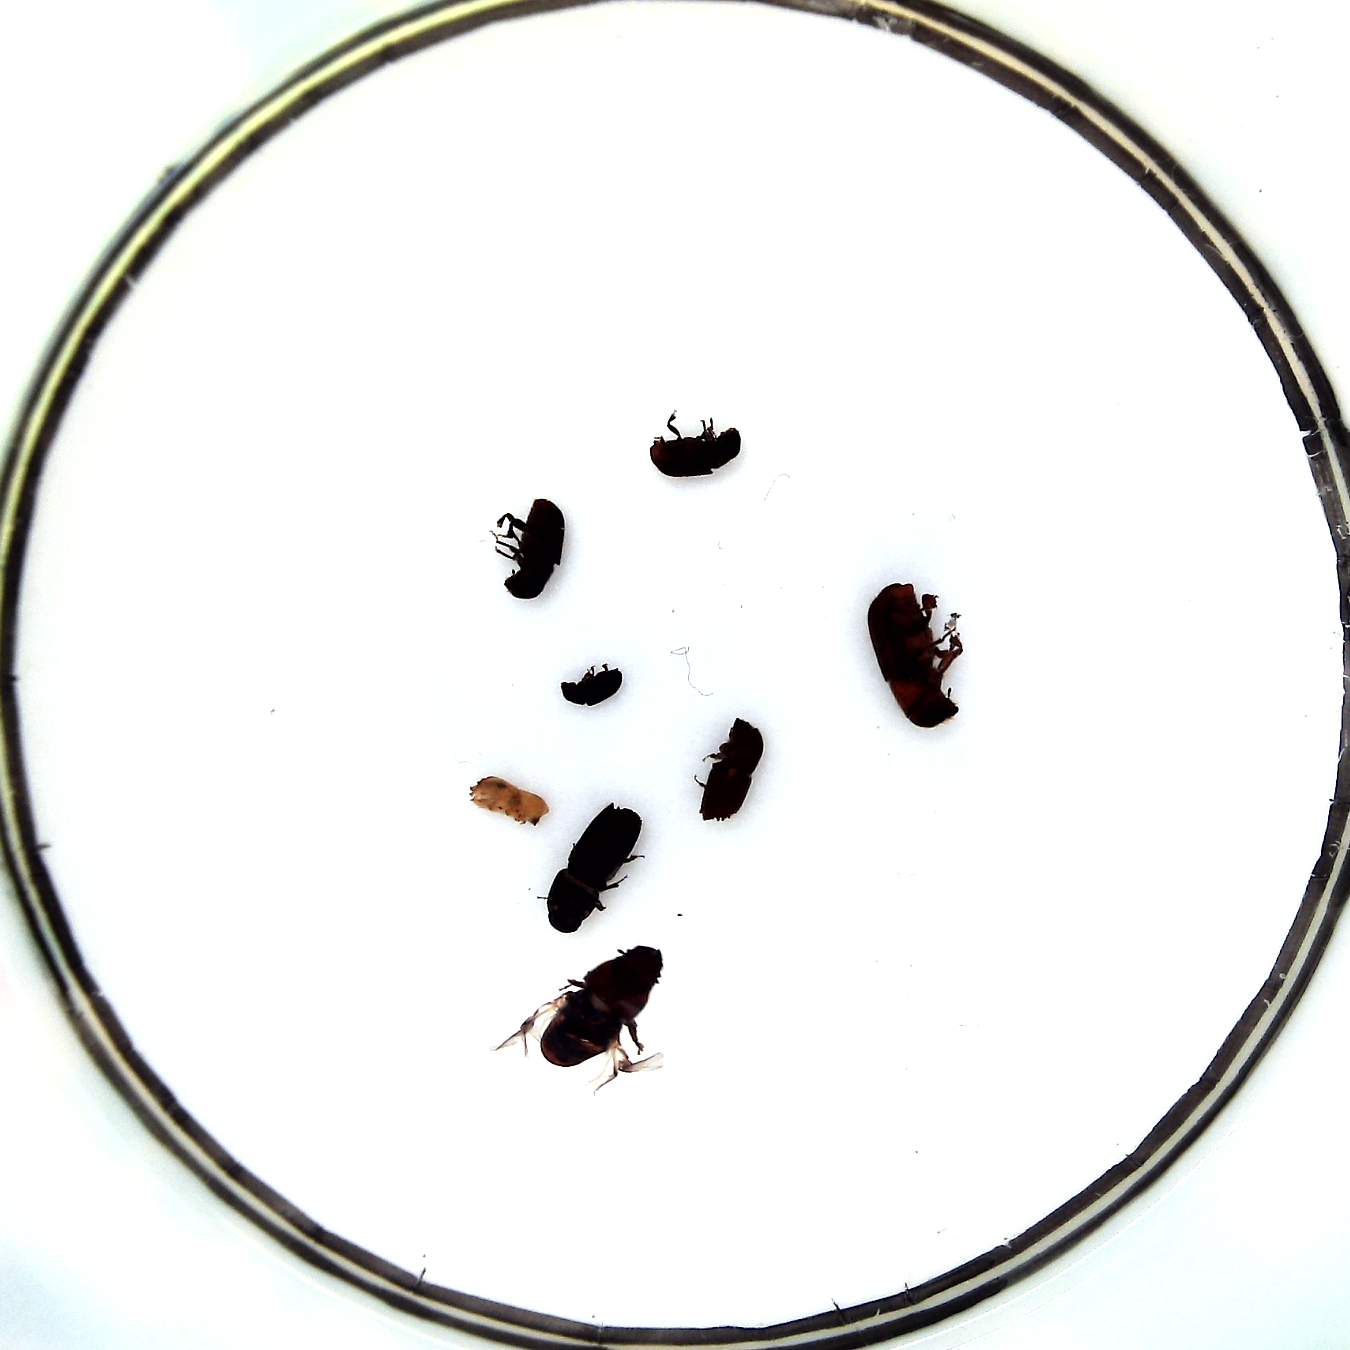Boerner: (546, 802, 643, 932)
Leconte: (541, 945, 665, 1066), (868, 582, 962, 727)
acuminatus: (560, 663, 623, 706)
armandi: (493, 497, 566, 600), (652, 410, 739, 476)
coleoptera: (469, 775, 551, 827)
linnaeus: (694, 717, 763, 821)
